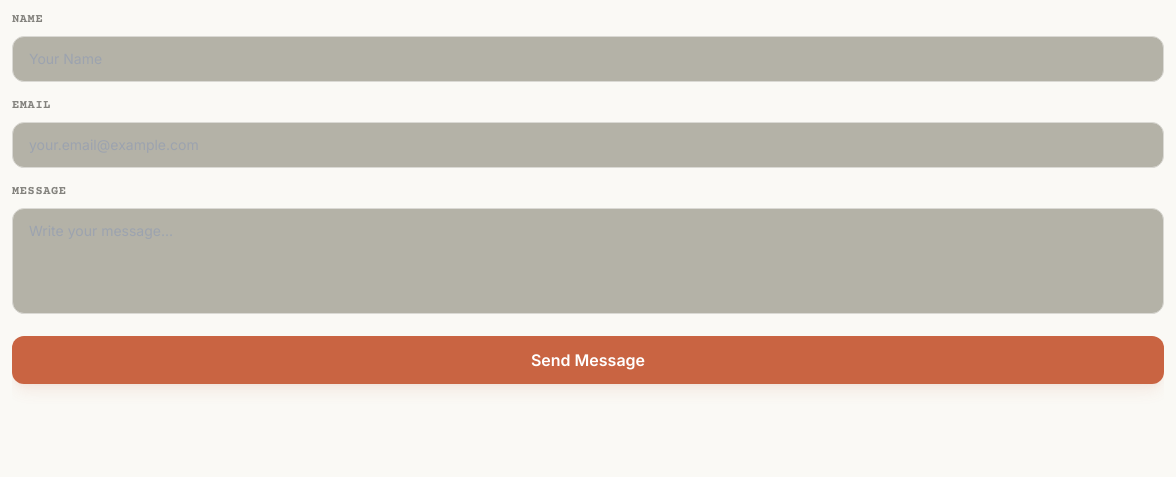
it: ContactForm Component › handles catch block errors gracefully
Type "Ryan" into the field with placeholder "Your Name" at [588, 59], box [12, 36, 1164, 82]
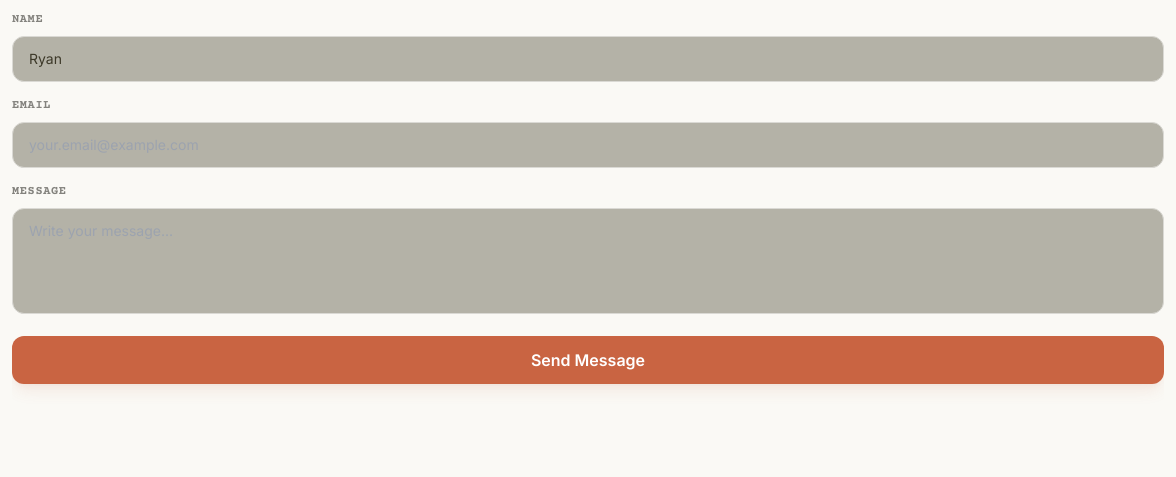
Type "ryan@test.com" into the field with placeholder "your.email@example.com" at [588, 145], box [12, 122, 1164, 168]
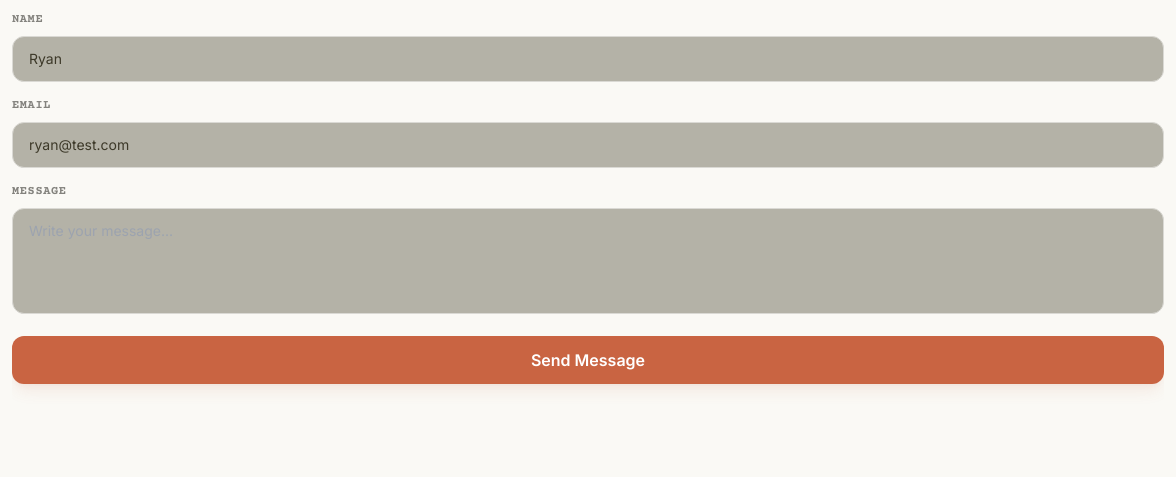
Type "Hi there" into the text box with placeholder "Write your message..." at [588, 261], box [12, 208, 1164, 314]
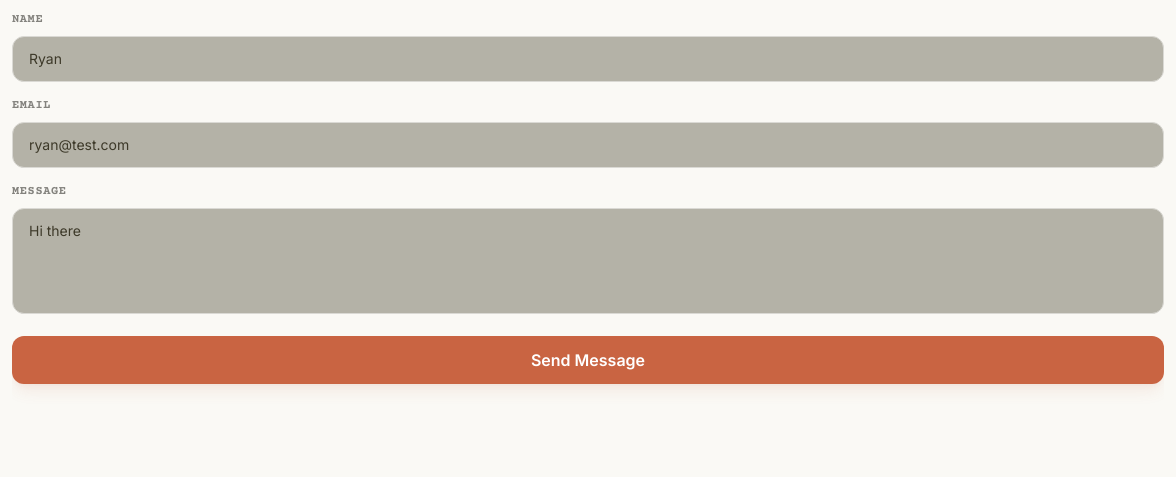
Click the button "Send Message" at [588, 360], box [12, 336, 1164, 384]
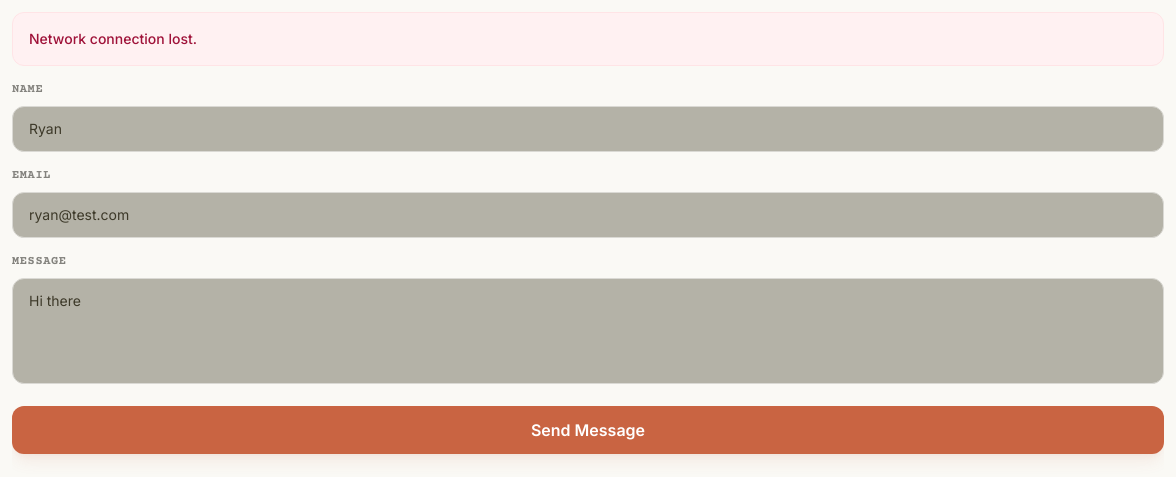
Check: the text "Network connection lost." is shown, box [12, 12, 1164, 66]
